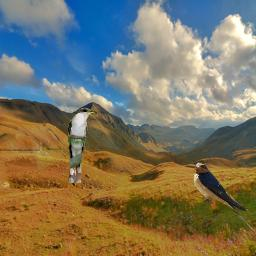Cuckoo: (67, 107, 97, 183)
Swallow: (193, 162, 255, 232)
